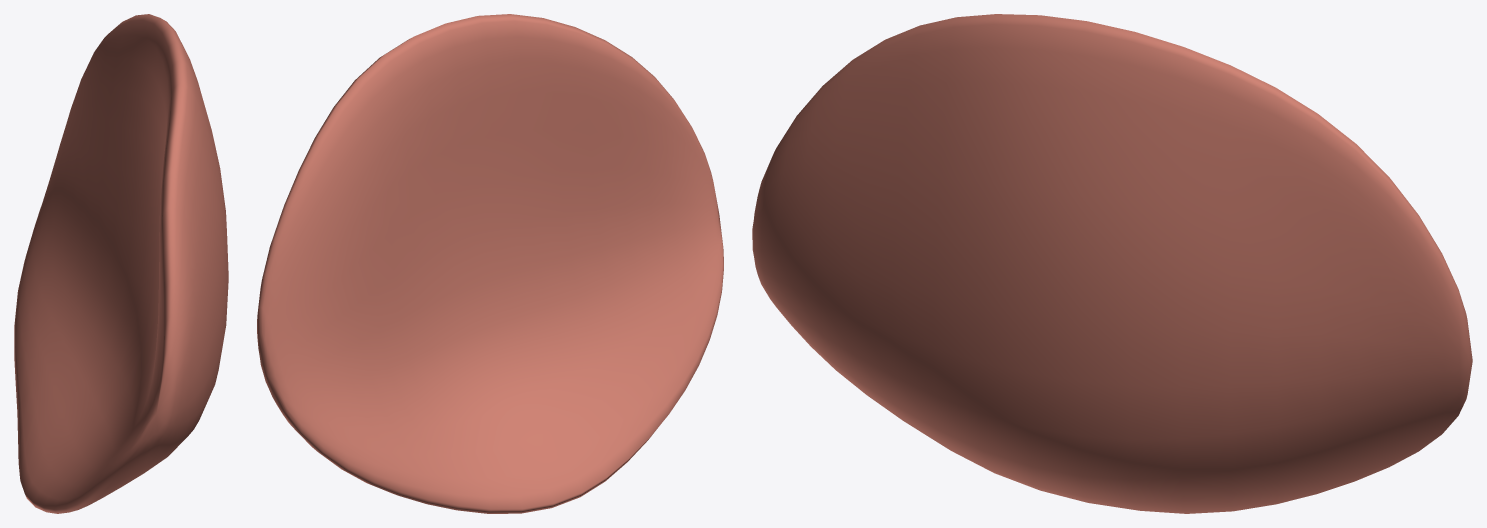
The picture shows the model from 3 angles, left to right: view 1: azimuth 30°, elevation 25°; view 2: azimuth 150°, elevation 25°; view 3: azimuth 270°, elevation 25°; orthographic projection. The views are drawn at different scales.
Visible parts, largest first — view 1: 左侧三角肌下囊; view 2: 左侧三角肌下囊; view 3: 左侧三角肌下囊.
Boxes of the visible parts, <box> form: 左侧三角肌下囊: <box>14,14,228,513</box>; 左侧三角肌下囊: <box>257,14,723,513</box>; 左侧三角肌下囊: <box>752,14,1472,513</box>.
Size of the model in its own units: 0.0199 by 0.0366 by 0.0426.
